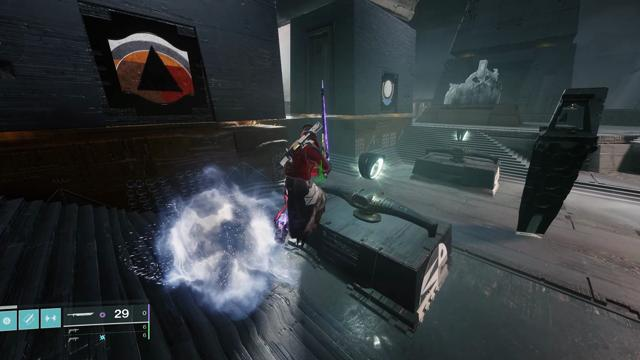pyramid: (108, 32, 195, 104)
traveler: (382, 80, 394, 106)
